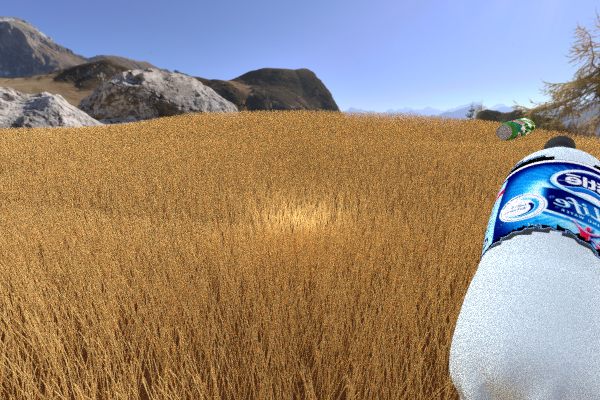bottle: (449, 135, 600, 400)
can: (496, 117, 534, 140)
